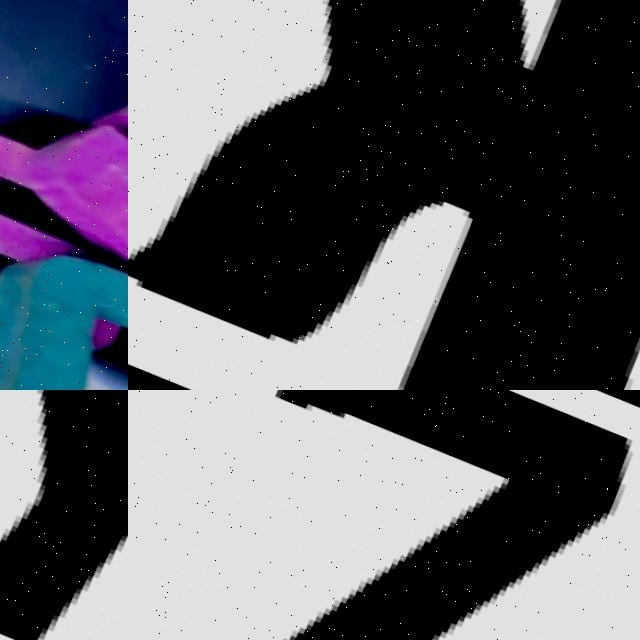D: (0, 207, 128, 390)
G: (0, 0, 128, 343)
K: (128, 0, 640, 390)
Y: (0, 390, 128, 640)
Z: (128, 390, 640, 640)
